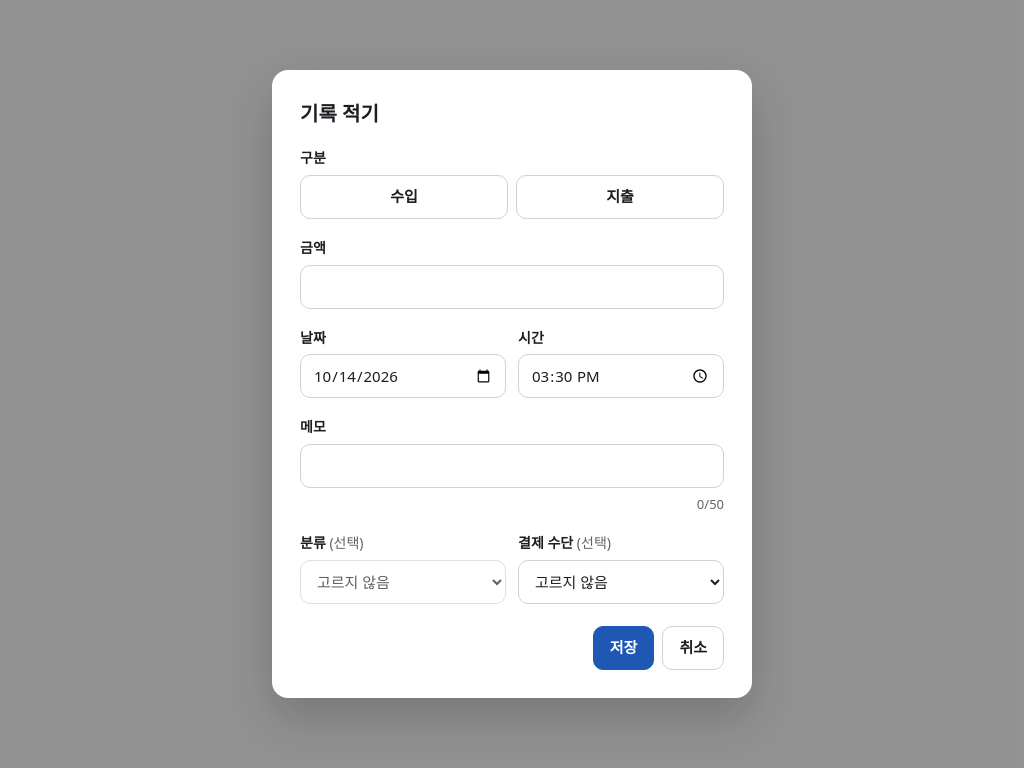
Test: T-121 화면 검사 알림 › 금액 0
The width and height of the screenshot is (1024, 768).
Click the button "지출" at (620, 197), box [516,175,724,219]
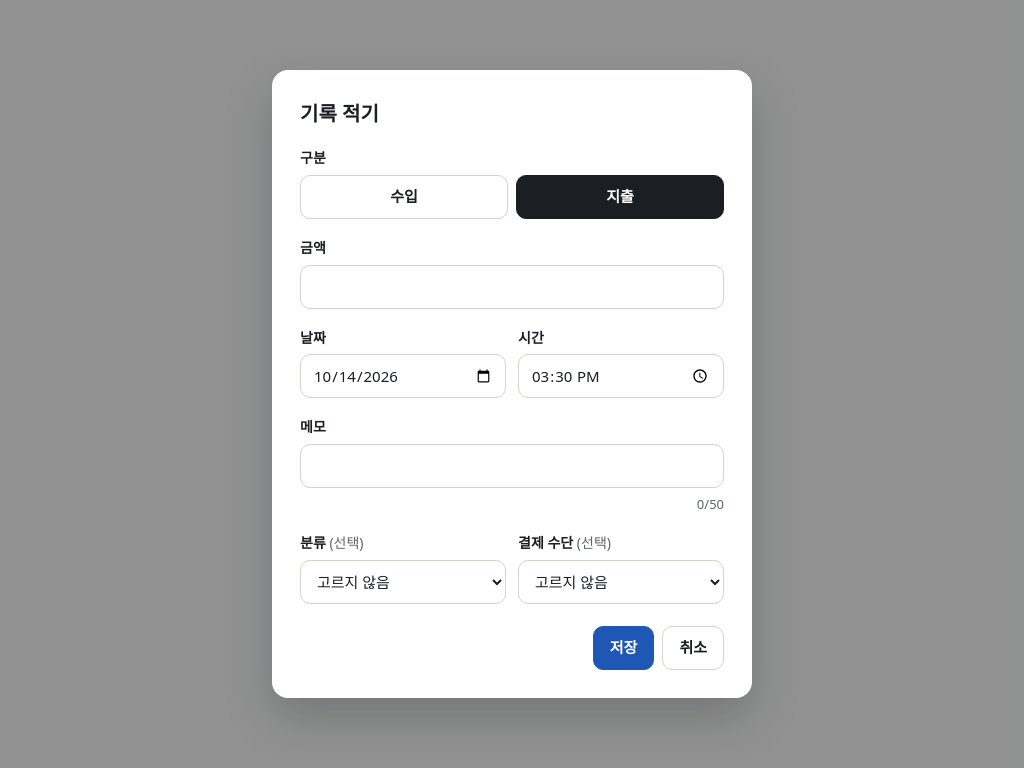
Type "12000" into the field labelled "금액" at (512, 287), box [300,265,724,309]
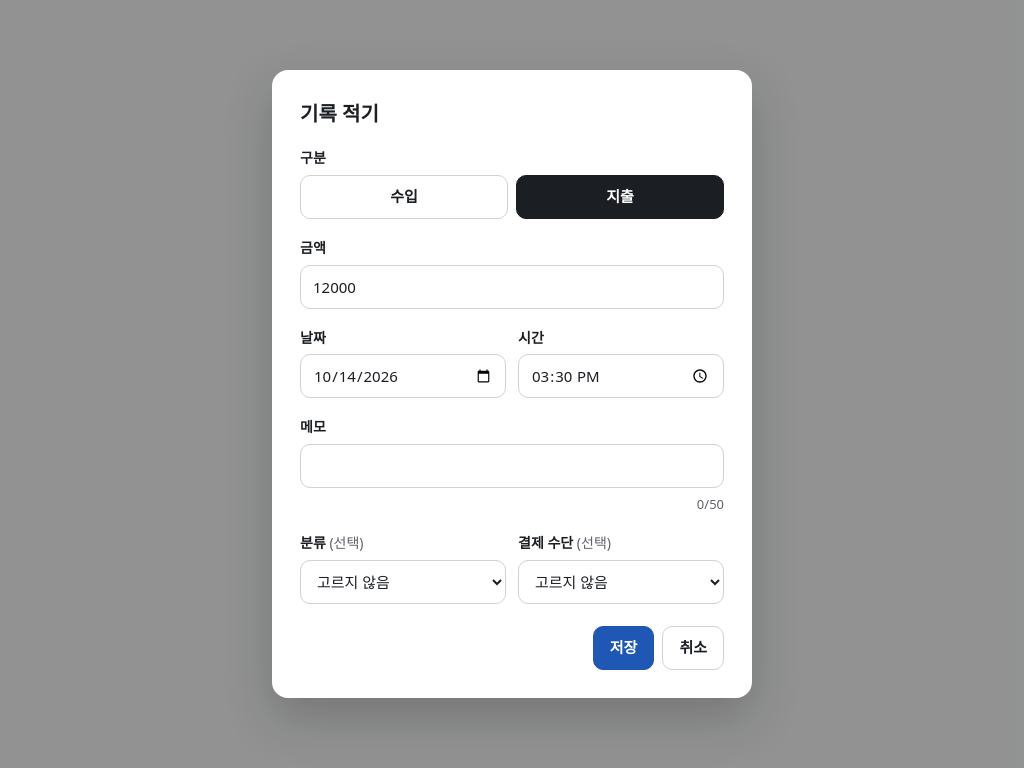
Type "점심" into the field labelled "메모" at (512, 466), box [300,444,724,488]
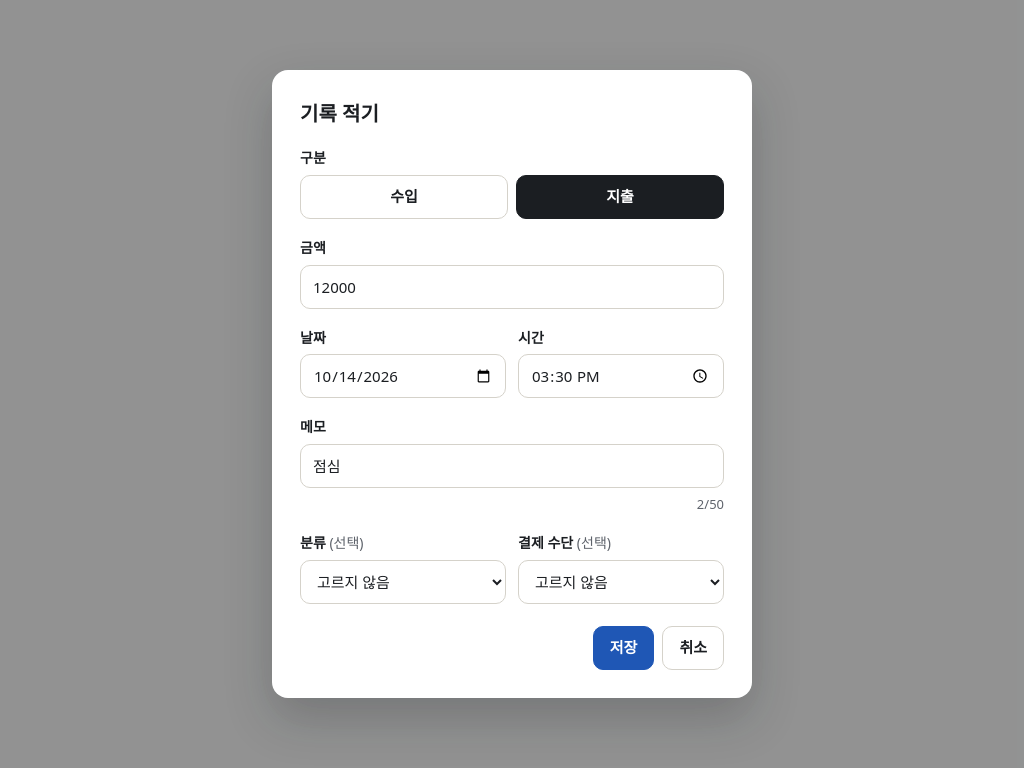
Replace the text in the field labelled "금액" with "0" at (512, 287), box [300,265,724,309]
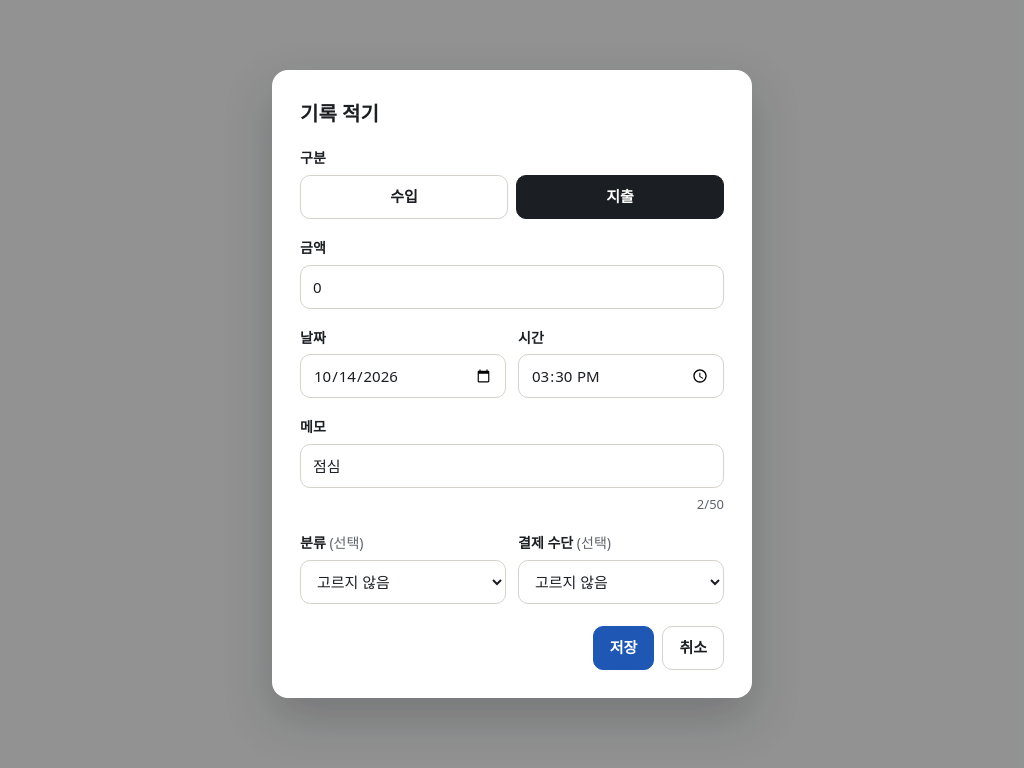
Click the button "저장" at (624, 648), box [593,626,654,670]
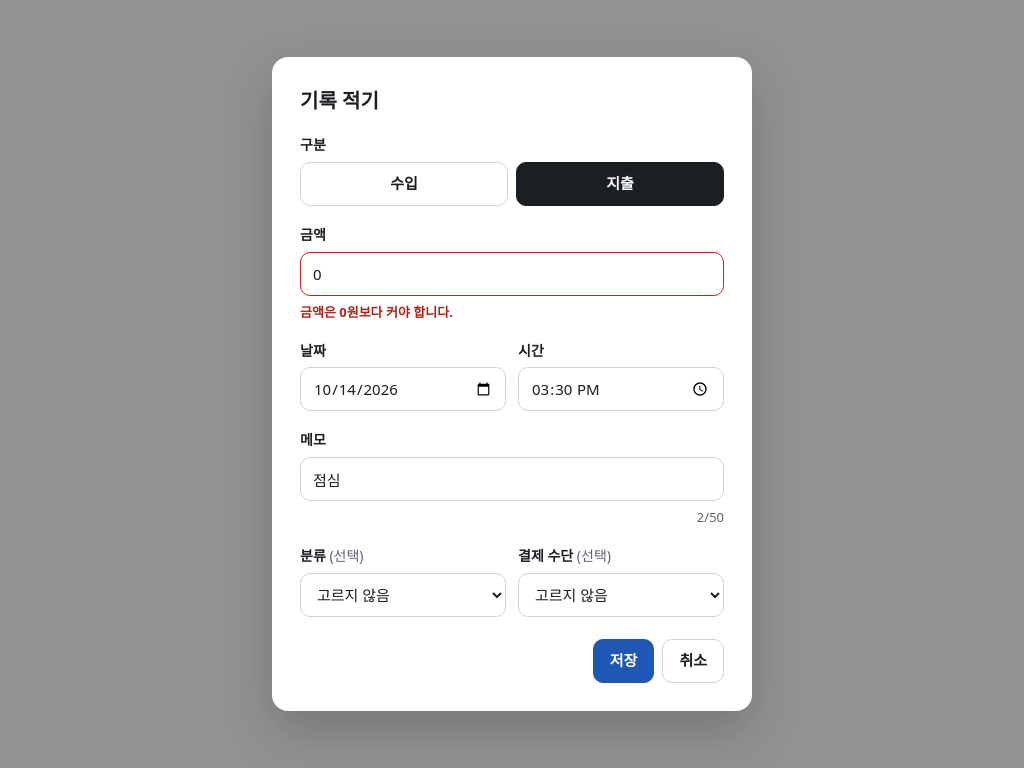
Check: the text "금액은 0원보다 커야 합니다." is shown, box [300,302,453,320]
